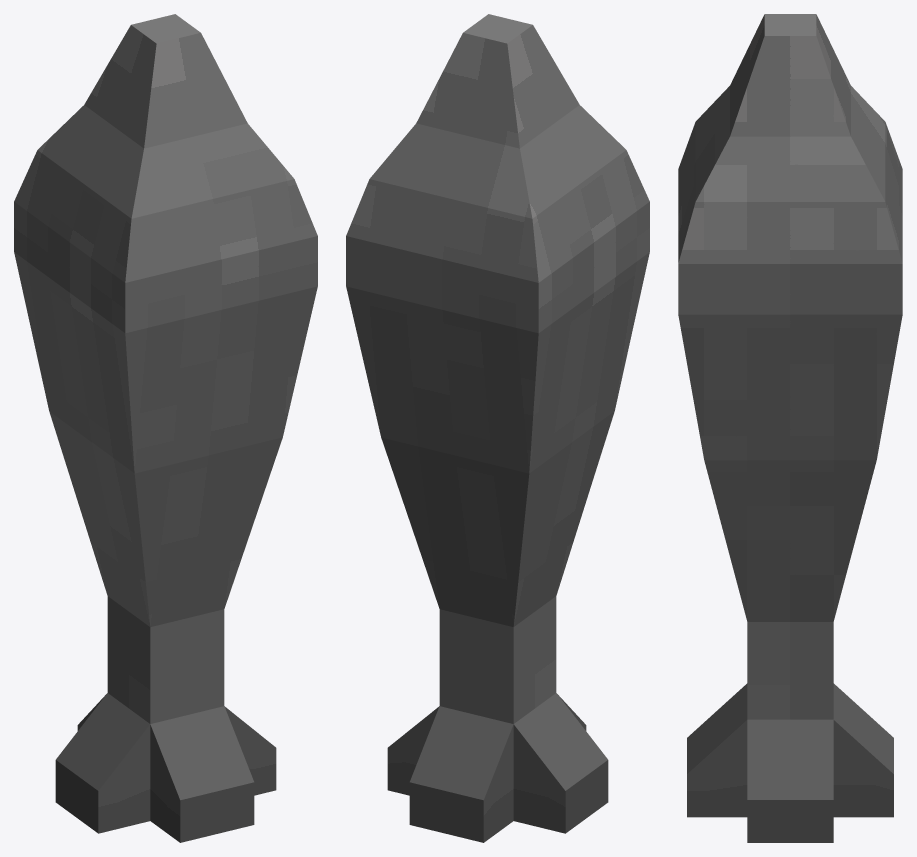
The model's file is mortar.gltf.
3 renders of one model, left to right at view 1: azimuth 30°, elevation 25°; view 2: azimuth 150°, elevation 25°; view 3: azimuth 270°, elevation 25°, orthographic.
Parts seen in each view (by area): view 1: mesh; view 2: mesh; view 3: mesh.
Boxes of the visible parts, bbox=[...] form: mesh: bbox=[14, 14, 317, 842]; mesh: bbox=[346, 14, 649, 842]; mesh: bbox=[678, 14, 902, 842].
Size of the model in its own units: 0.0812 by 0.3094 by 0.0812.
1 material, 1 textured.
